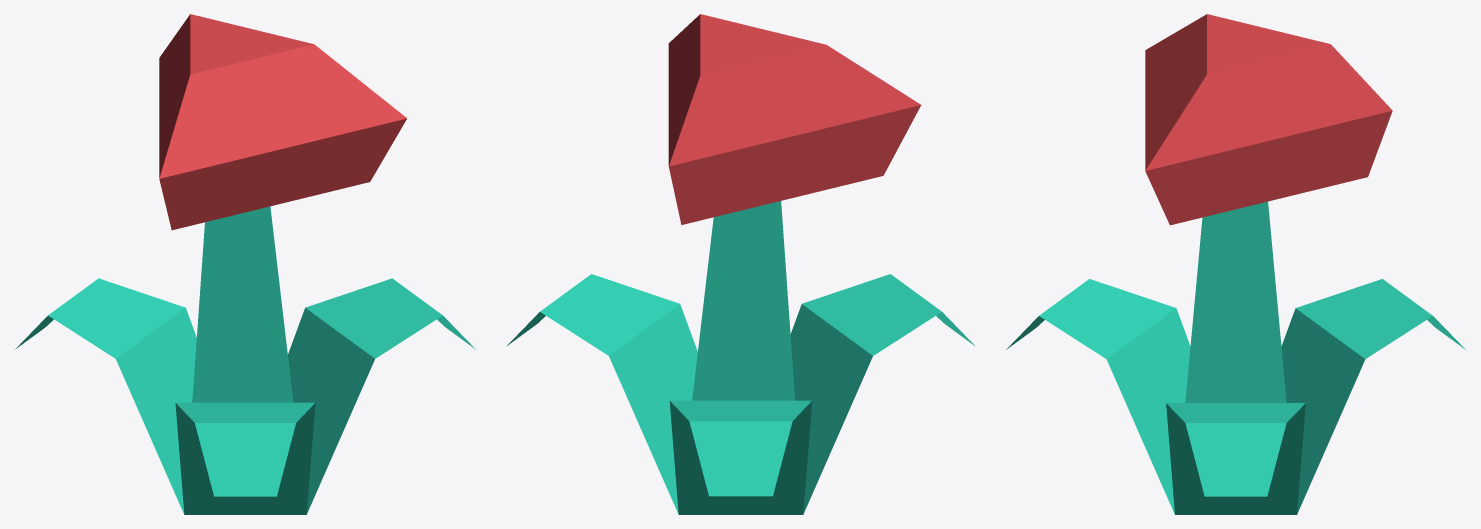
The model's file is flower_redB.obj.
3 renders of one model, left to right at view 1: azimuth 30°, elevation 25°; view 2: azimuth 150°, elevation 25°; view 3: azimuth 270°, elevation 25°, orthographic. The views are drawn at different scales.
Parts seen in each view (by area): view 1: flower_redB; view 2: flower_redB; view 3: flower_redB.
Part boxes in pixels (x1=…): flower_redB: x1=15, y1=14, x2=475, y2=514; flower_redB: x1=506, y1=14, x2=975, y2=514; flower_redB: x1=1006, y1=14, x2=1465, y2=514.
Bounding box in the file's own units: 0.2073 × 0.2585 × 0.2392.
